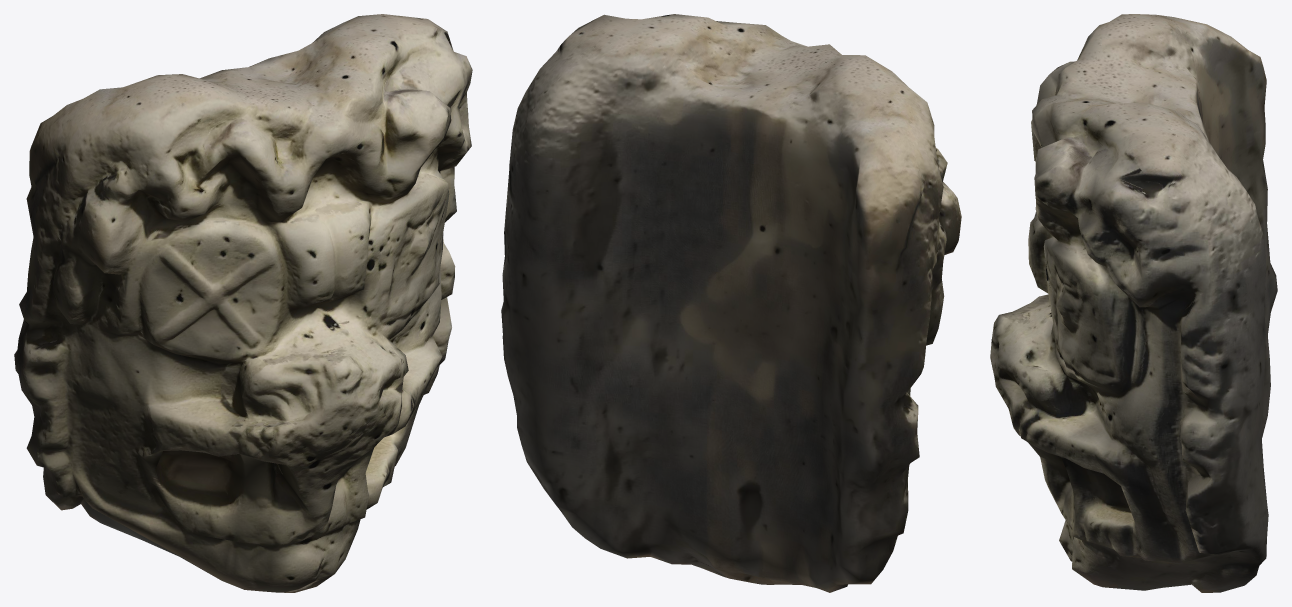
The model's file is Cabeza_con_rasgos_fantasticos.glb.
3 renders of one model, left to right at view 1: azimuth 30°, elevation 25°; view 2: azimuth 150°, elevation 25°; view 3: azimuth 270°, elevation 25°, orthographic. The views are drawn at different scales.
Parts seen in each view (by area): view 1: Mesh1.0; view 2: Mesh1.0; view 3: Mesh1.0.
Part boxes in pixels (x1,y1,x2,y2): Mesh1.0: (14,14,472,592); Mesh1.0: (501,14,961,592); Mesh1.0: (990,14,1277,592).
Bounding box in the file's own units: 0.414 × 0.5 × 0.2538.
1 material, 1 textured.
